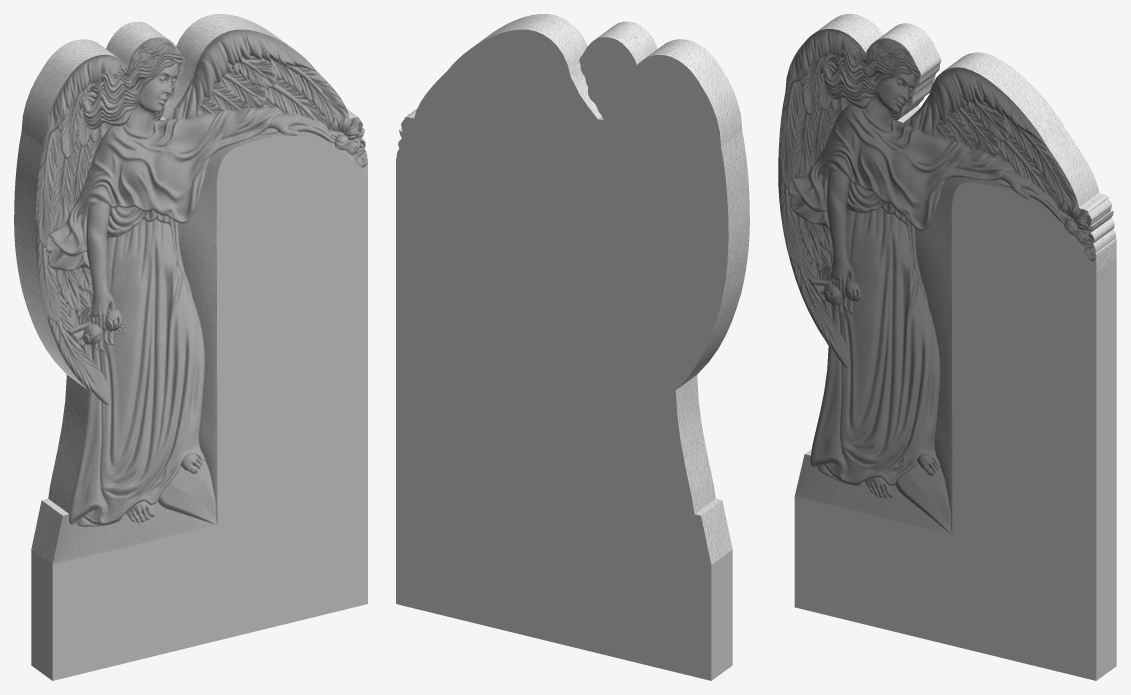
The model's file is cn23b952e59b_tkf.glb.
3 renders of one model, left to right at view 1: azimuth 30°, elevation 25°; view 2: azimuth 150°, elevation 25°; view 3: azimuth 330°, elevation 25°, orthographic. The views are drawn at different scales.
Visible parts, largest first — view 1: Pam-d02-083_2_notexture, Pam-d02-083; view 2: Pam-d02-083, Pam-d02-083_2_notexture; view 3: Pam-d02-083_2_notexture, Pam-d02-083.
Part boxes in pixels (x1,y1,x2,y2): Pam-d02-083_2_notexture: [14, 14, 367, 564]; Pam-d02-083: [31, 135, 367, 680]; Pam-d02-083: [396, 29, 732, 680]; Pam-d02-083_2_notexture: [399, 14, 749, 564]; Pam-d02-083_2_notexture: [778, 14, 1116, 534]; Pam-d02-083: [794, 182, 1116, 680].
Size of the model in its own units: 0.45 by 0.8 by 0.05.
Materials: 1 (1 with a texture image).
